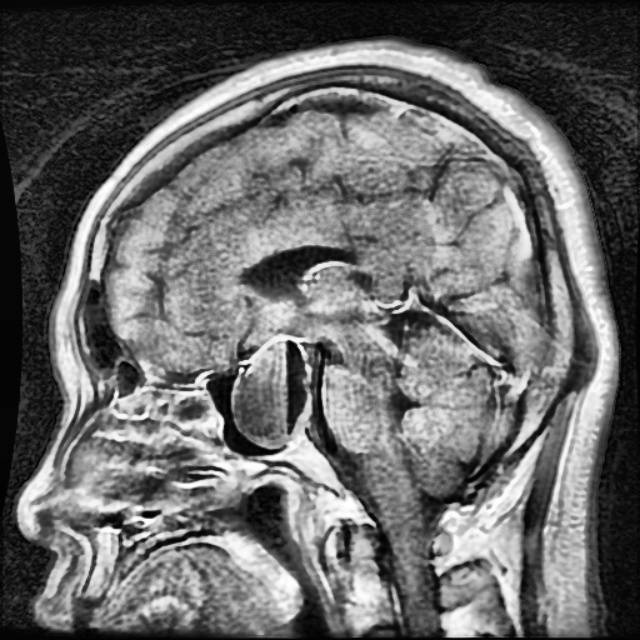Pituitary: (230, 337, 314, 450)
